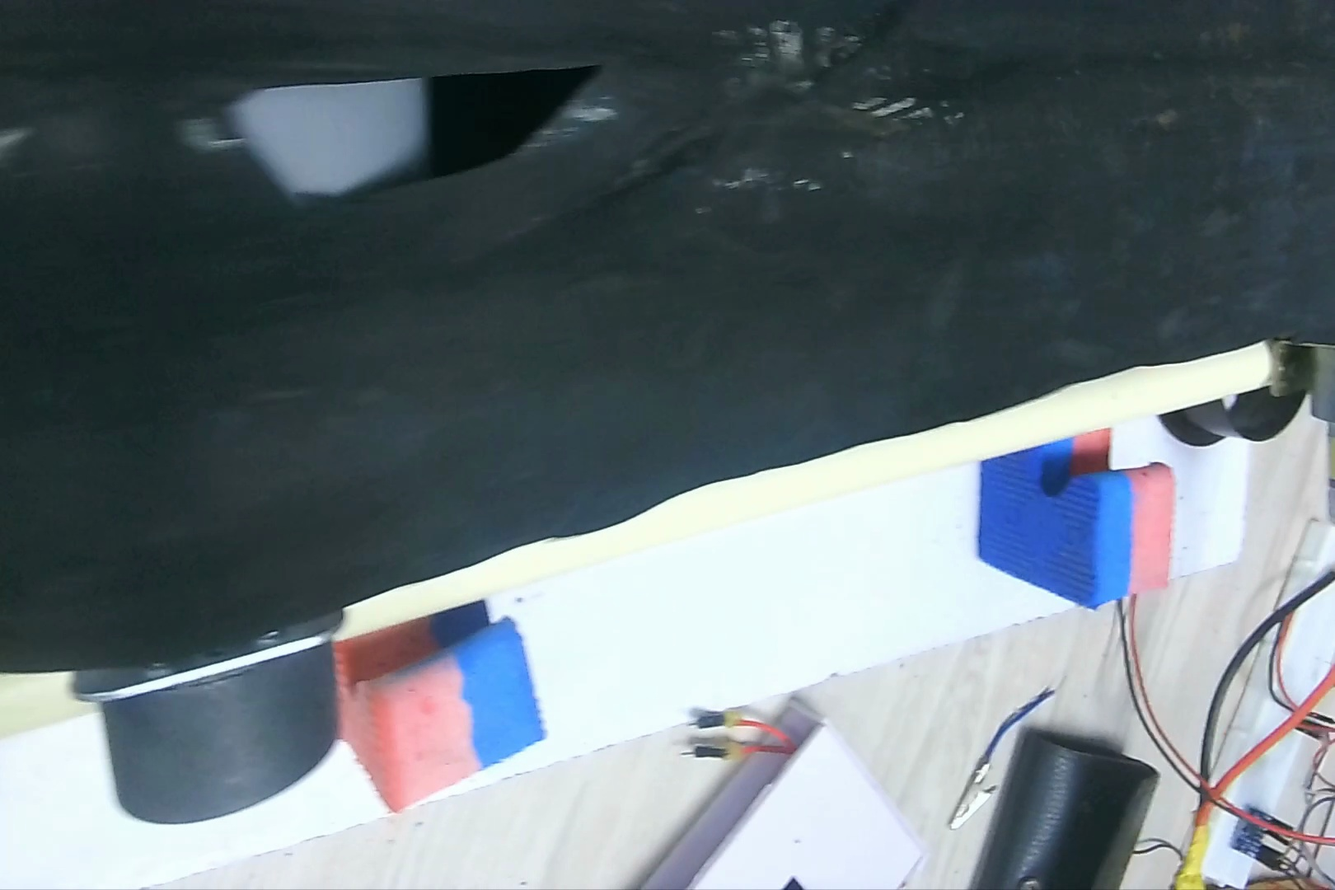hole: (212, 77, 631, 200)
